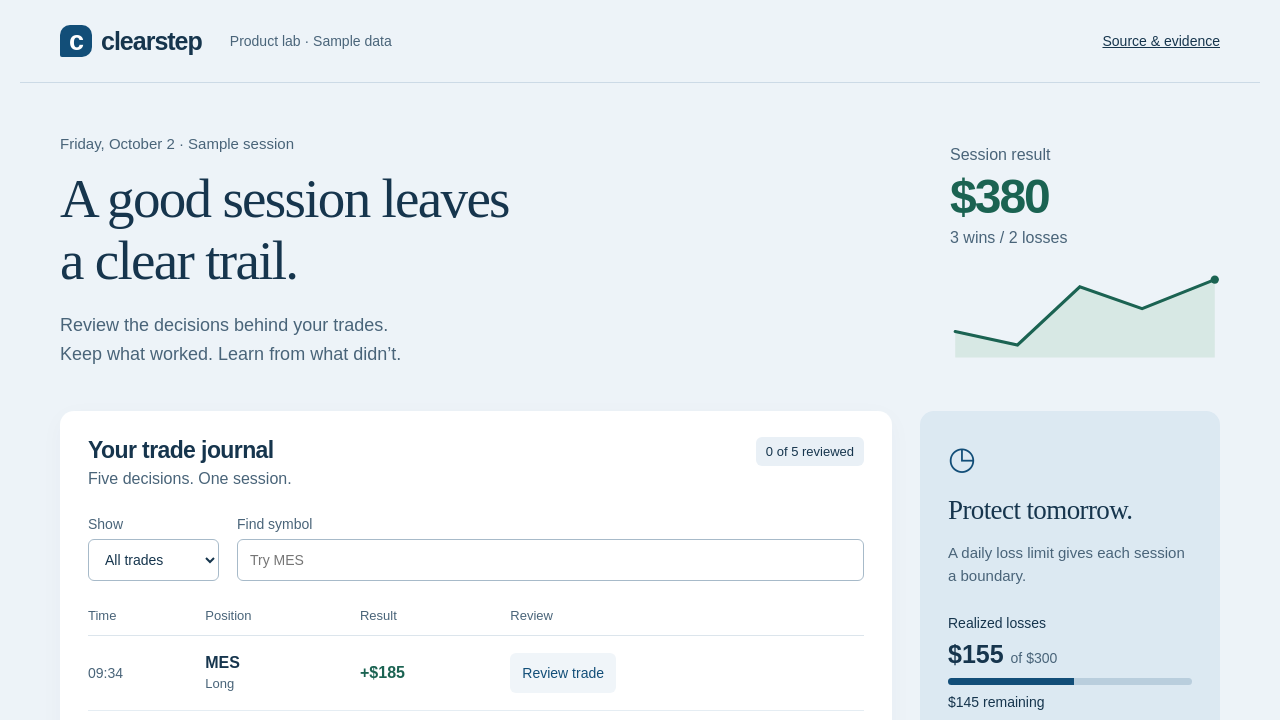
Session journal › searches and clears empty state
Type "none" into the field labelled "Find symbol" at (550, 560), box 237,539 -> 864,581
(page scrolled)
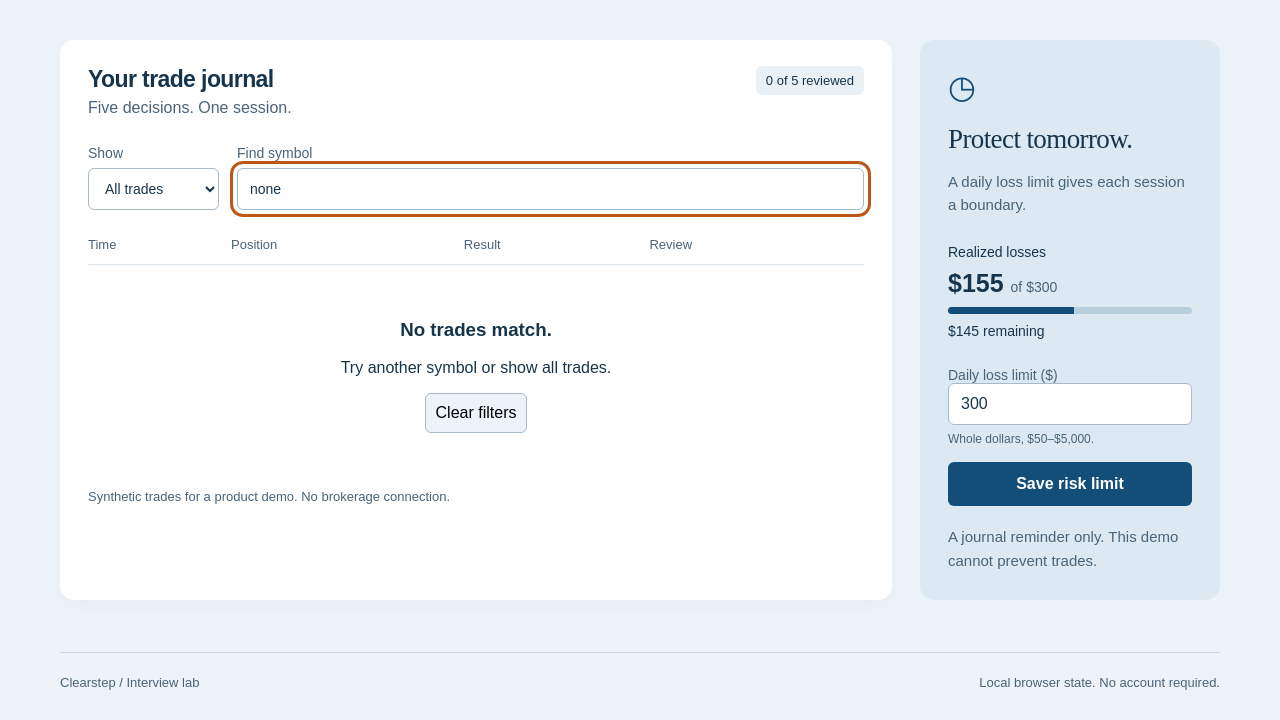
Check: the heading "No trades match." is shown, box 400,319 -> 552,340
Click the button "Clear filters" at (476, 413), box 424,393 -> 527,433
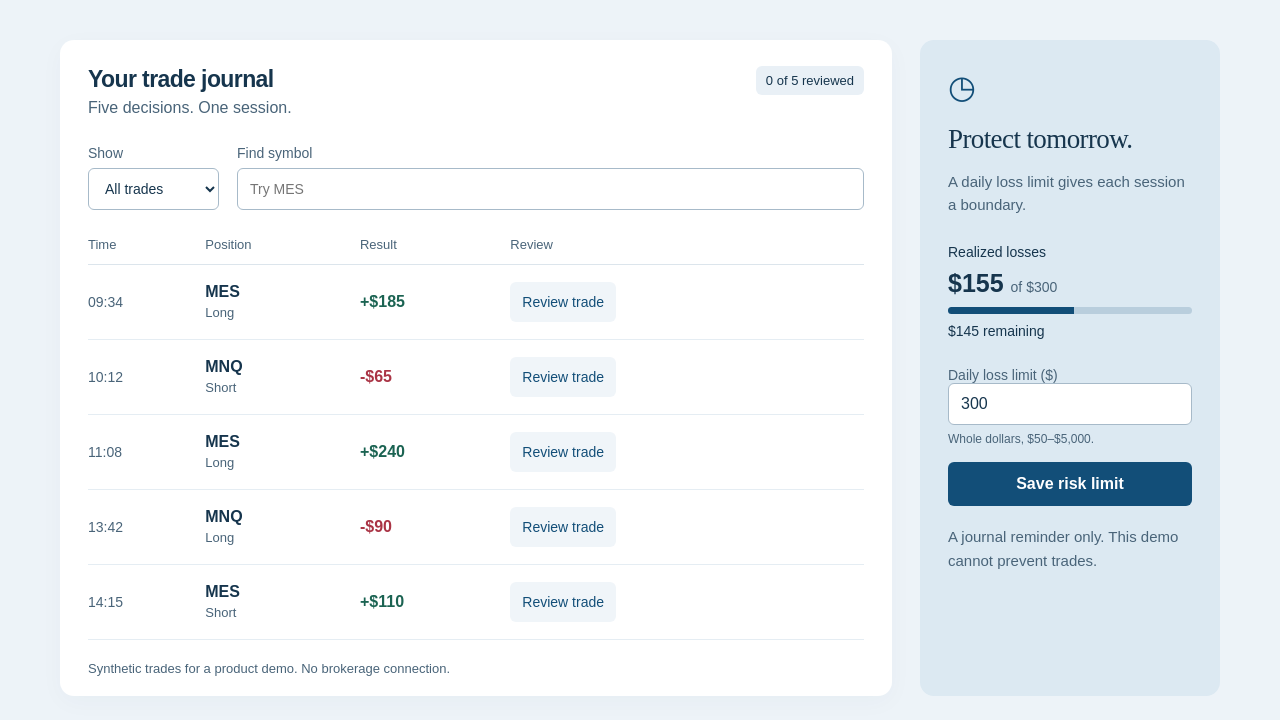
Check: the number of rows is 6, box 88,225 -> 864,264; 88,265 -> 864,339; 88,339 -> 864,414; 88,414 -> 864,489; 88,489 -> 864,564; 88,564 -> 864,639
